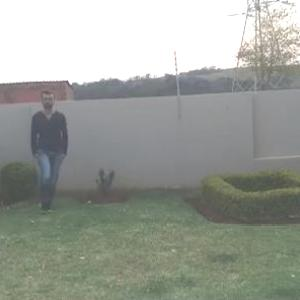follow: (30, 92, 79, 202)
